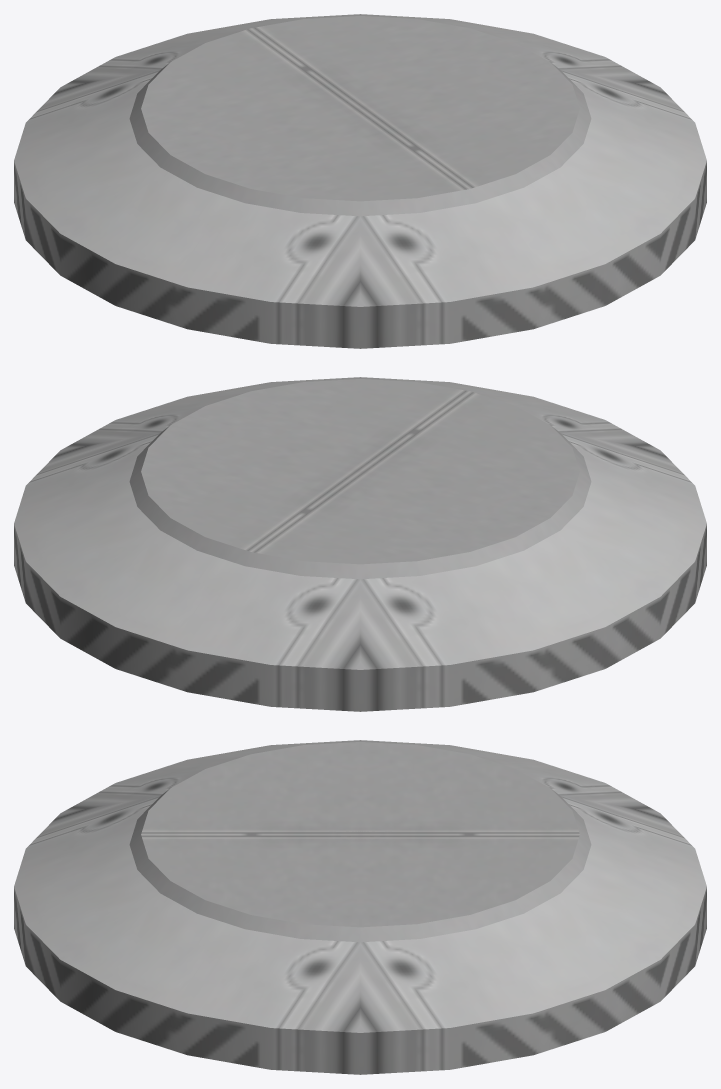
The model's file is vega_adapter_s1p5_s1_1.obj.
3 views of the same model, one above another, from view 1: azimuth 30°, elevation 25°; view 2: azimuth 150°, elevation 25°; view 3: azimuth 270°, elevation 25° (orthographic).
Parts seen in each view (by area): view 1: vega_adapter_s1p5_s1_1; view 2: vega_adapter_s1p5_s1_1; view 3: vega_adapter_s1p5_s1_1.
Boxes of the visible parts, x1,y1,x2,y2 form: vega_adapter_s1p5_s1_1: [14, 14, 706, 348]; vega_adapter_s1p5_s1_1: [14, 377, 706, 711]; vega_adapter_s1p5_s1_1: [14, 740, 706, 1074].
Size of the model in its own units: 1.88 by 0.28 by 1.88.
